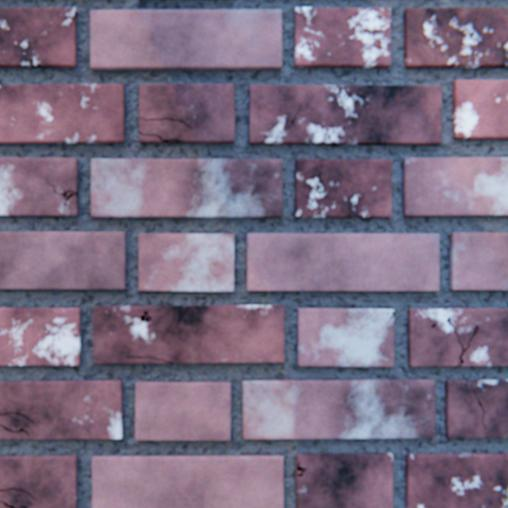brick: (91, 11, 281, 71), (242, 379, 434, 438), (249, 86, 440, 145), (93, 305, 284, 363), (247, 234, 438, 291), (92, 160, 281, 217), (93, 455, 283, 507), (0, 85, 125, 144), (0, 380, 122, 439), (0, 232, 126, 289), (403, 9, 507, 69), (401, 158, 507, 216), (294, 9, 389, 69), (407, 308, 507, 365), (405, 452, 507, 507), (139, 85, 234, 144), (294, 160, 390, 218), (297, 308, 393, 366), (136, 382, 230, 439), (139, 234, 233, 291), (296, 452, 391, 507), (0, 9, 77, 69), (0, 308, 81, 365), (0, 158, 78, 216), (0, 454, 78, 507), (444, 379, 507, 437), (449, 233, 507, 290), (452, 81, 507, 139), (0, 502, 10, 507)
crack: (454, 325, 477, 366), (140, 118, 192, 130), (50, 185, 77, 206), (139, 132, 179, 142), (0, 487, 36, 498), (0, 412, 35, 423), (0, 423, 29, 435), (445, 316, 457, 338), (0, 500, 27, 507), (476, 399, 482, 424), (126, 355, 160, 359), (296, 462, 305, 475), (141, 310, 151, 321), (275, 131, 285, 140), (162, 359, 173, 362)
